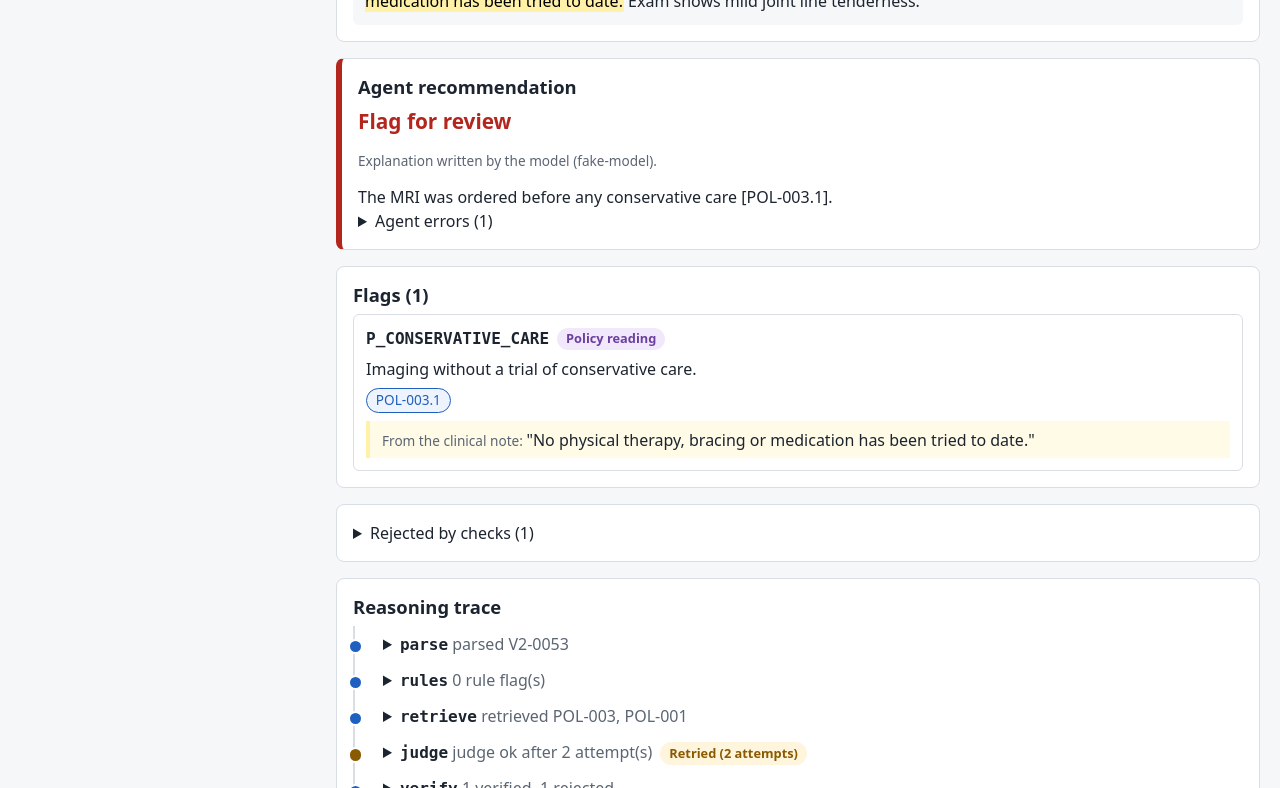
Test case: App › runs the full flow: review, evidence, trace, a 422 override, then approve
Earlier steps of the test are not shown.
Later steps or results of the test are not shown.
(page scrolled)
Expected: the text "Flag for review" is shown, [358,107,511,135]
Expected: the text "Explanation written by the model (fake-model)." is shown, [358,151,657,170]
the policy chip loads the criterion text on click
Click the button "POL-003.1" at (408, 400), box [366,388,451,413]
(page scrolled)
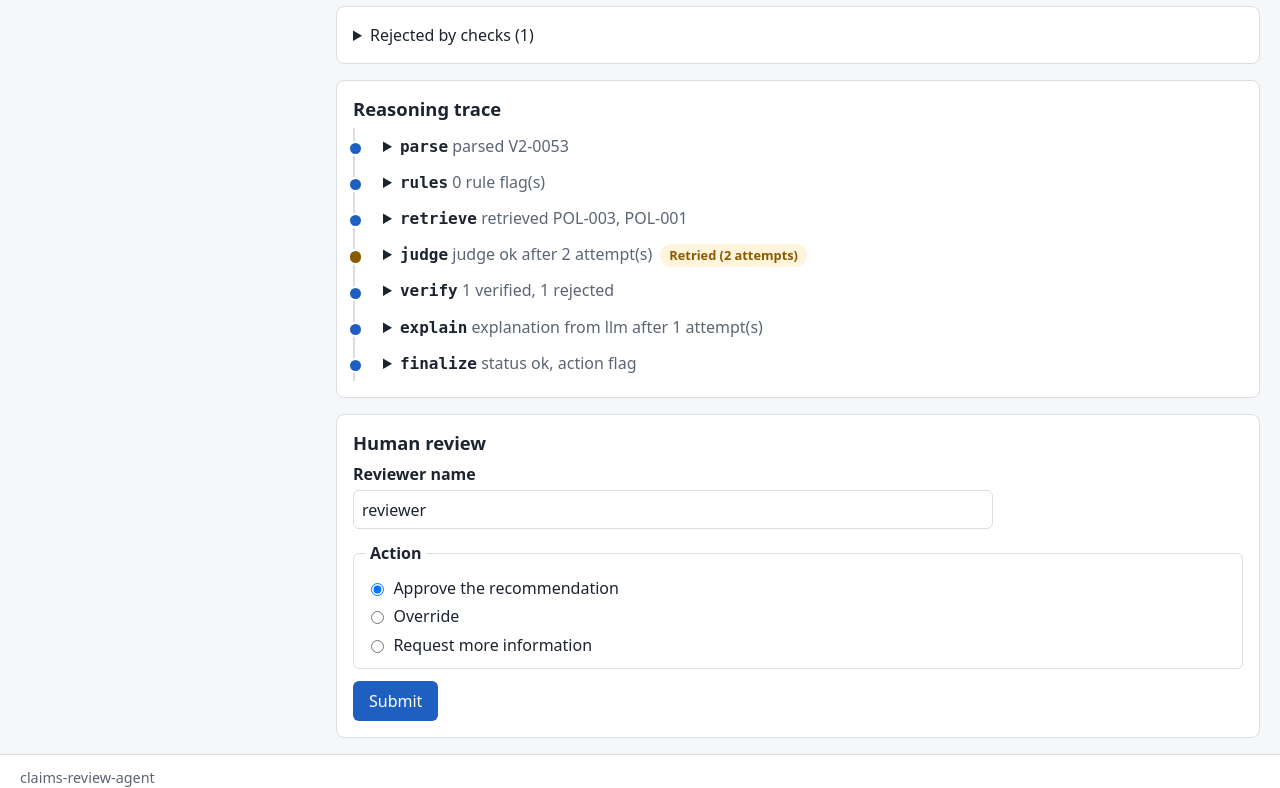
Now the heading "Rejected by checks (1)" is shown, box [370,24,534,46]
Now the text "Retried (2 attempts)" is shown, box [660,244,807,267]
Now the field labelled "Reviewer name" holds "reviewer", box [353,490,993,529]
Click the radio button labelled "Override" at (378, 618), box [371,611,384,624]
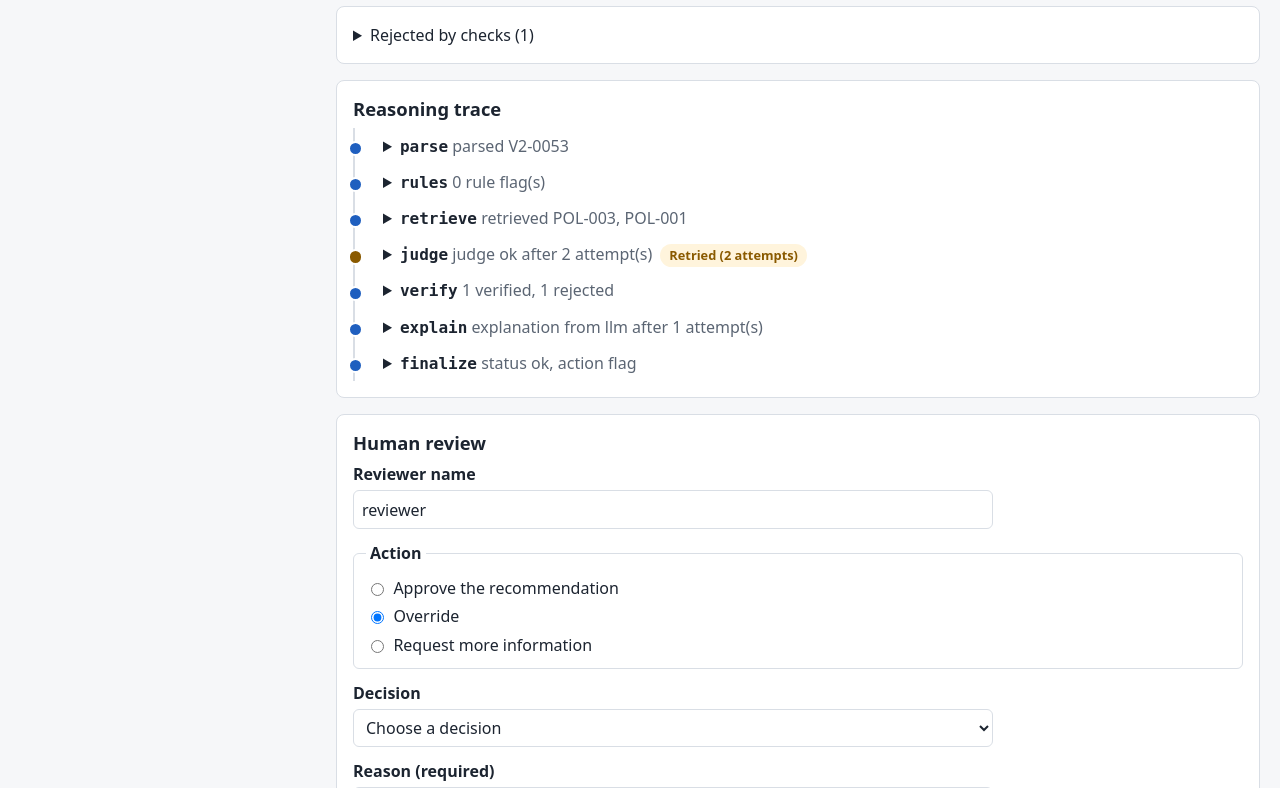
Select "Pass" in the dropdown labelled "Decision" at (673, 728), box [353,708,993,747]
(page scrolled)
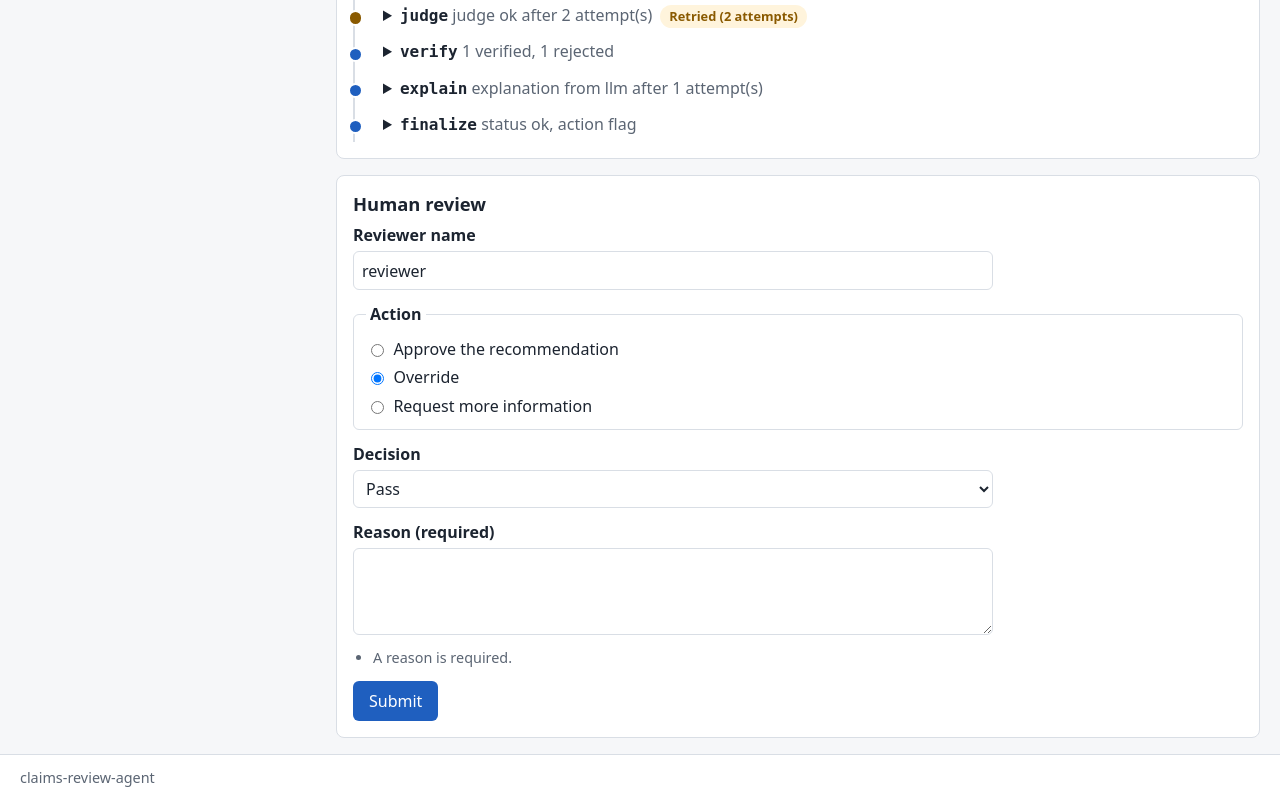
Now the list item "A reason is required." is shown, box [373,648,512,667]
Click the button "Submit" at (396, 701), box [353,681,438,721]
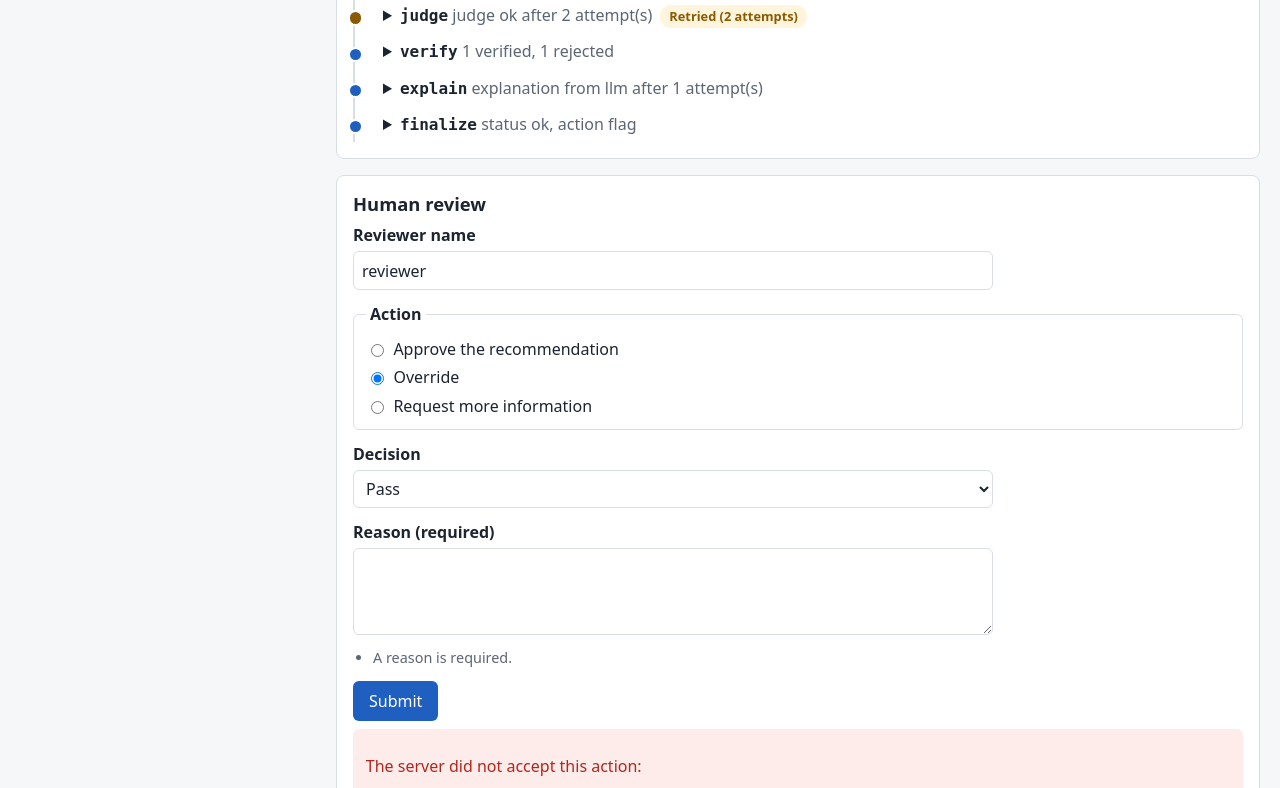
Now the text "The server did not accept this action:" is shown, box [366,755,642,777]
approve: the Decision record card replaces the panel
Click the radio button labelled "Approve the recommendation" at (378, 350), box [371,344,384,357]
(page scrolled)
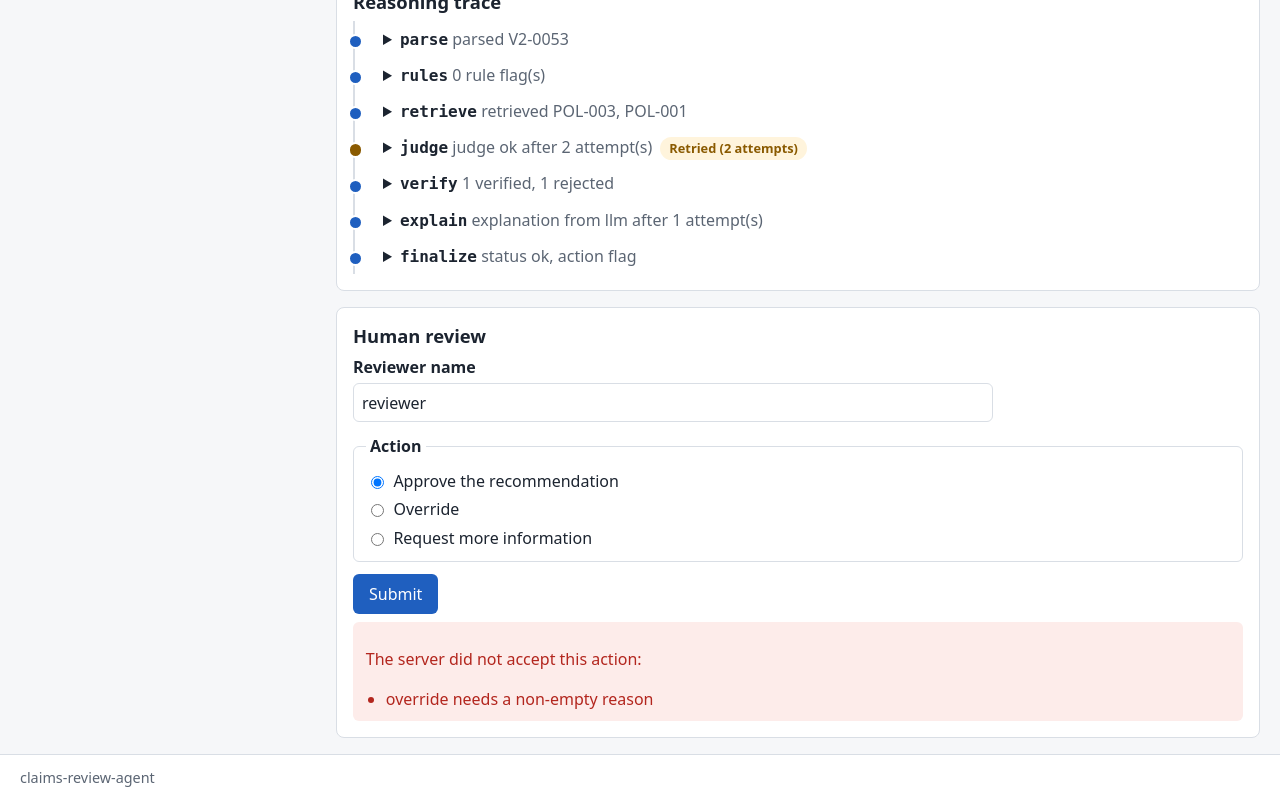
Click the button "Submit" at (396, 594), box [353,574,438,614]
(page scrolled)
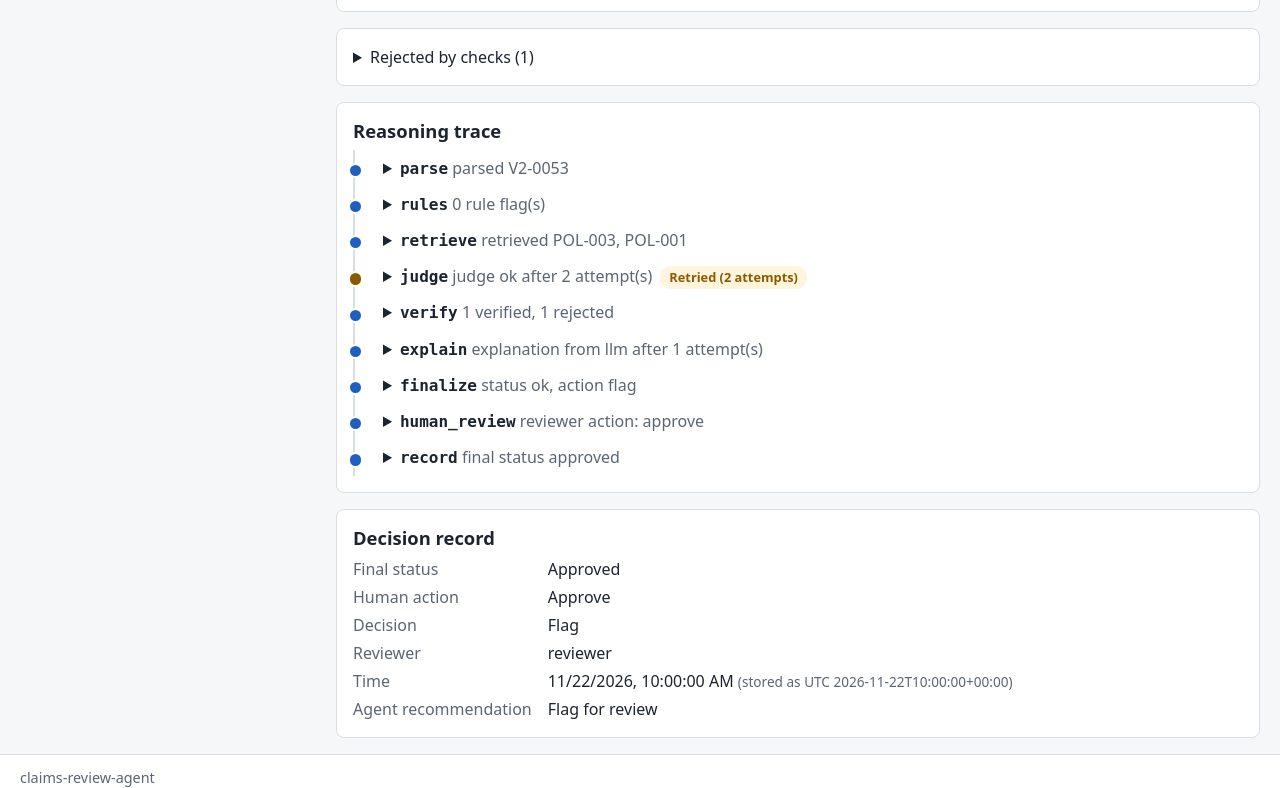
Now the text "Approved" is shown, box [548,558,620,580]
Now the text "Approve" is shown, box [548,586,610,608]
Now the text "Flag" is shown, box [548,614,579,636]
